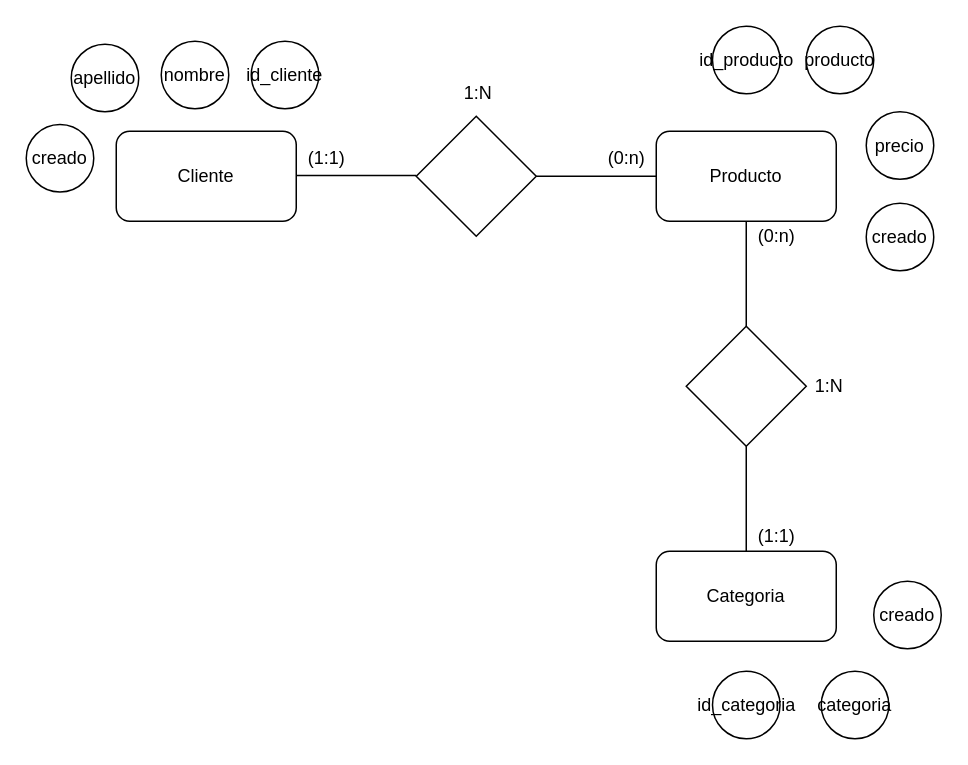
This 968x765 diagram has some shape labels left out. The centre of each missing label's shape, as x and y in pixels:
"Compra" belongs at (475,175).
"Pertenece" belongs at (745,385).
